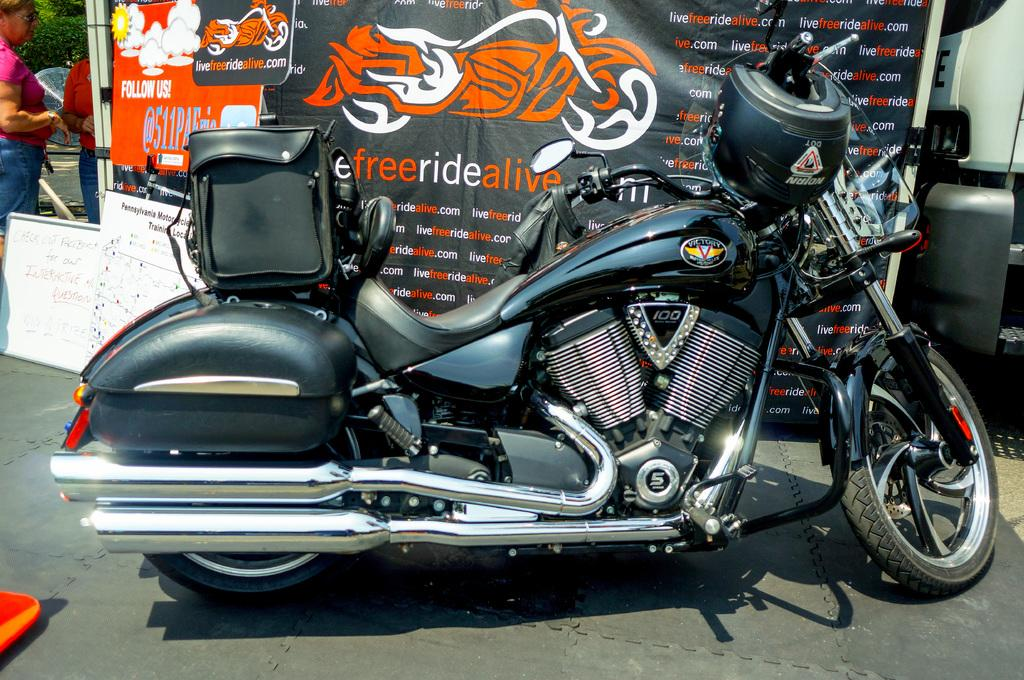helmet: (701, 64, 851, 208)
